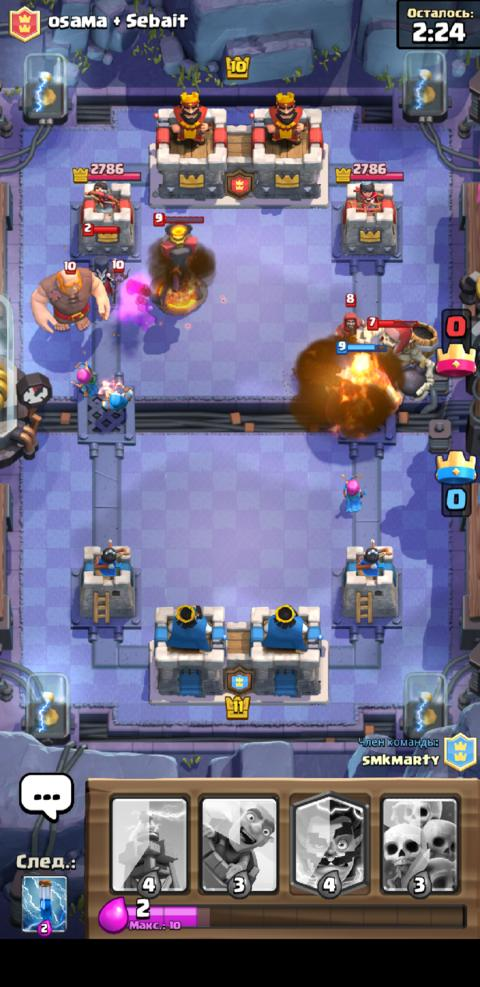ally_archer: (339, 470, 366, 514), (69, 360, 98, 398)
ally_giant: (333, 340, 401, 442)
ally_wizard: (96, 376, 134, 413)
enemy_bat: (107, 259, 130, 282)
enemy_giant: (27, 259, 110, 334)
enemy_giant_skeleton: (366, 315, 436, 402)
enemy_inferno_tower: (150, 211, 209, 317)
enemy_night_witch: (80, 223, 119, 300)
enemy_wizard: (335, 292, 364, 336)
